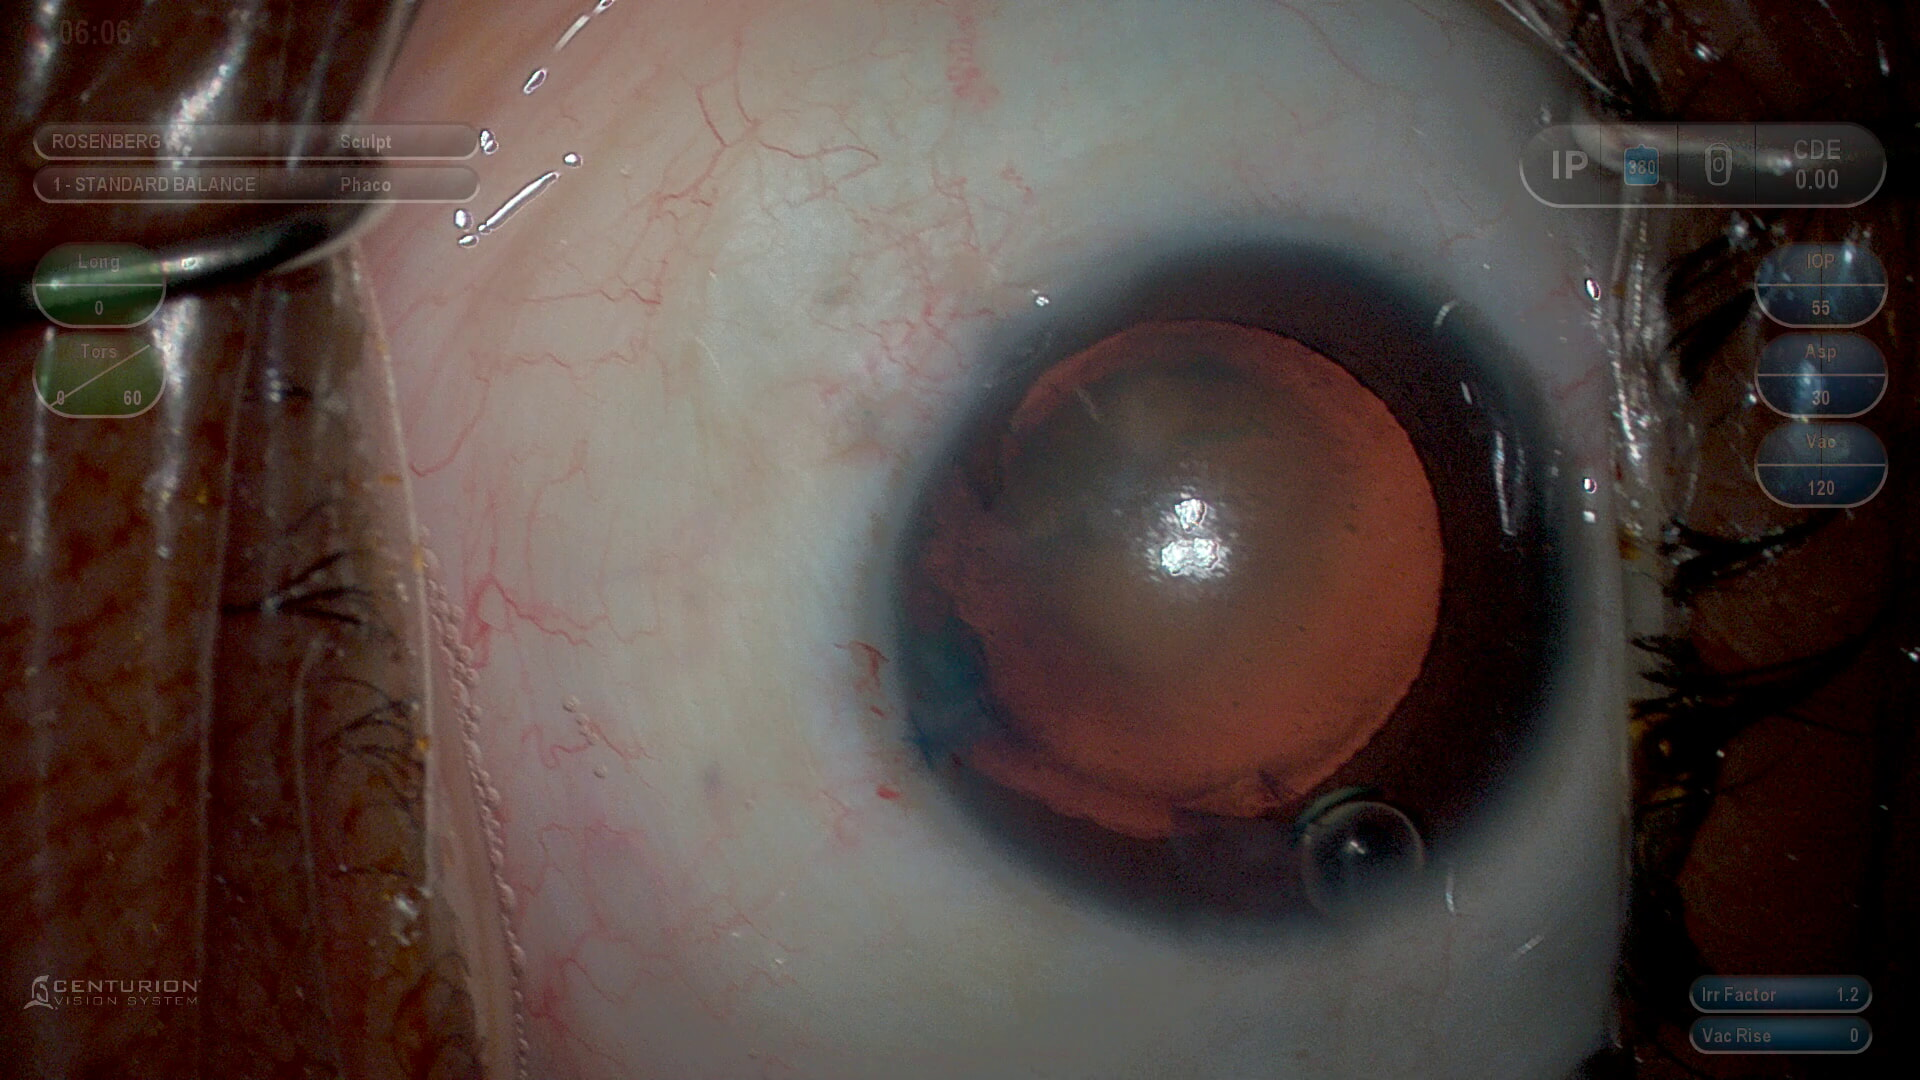iris: (908, 248, 1586, 929)
pupil: (925, 321, 1440, 833)
